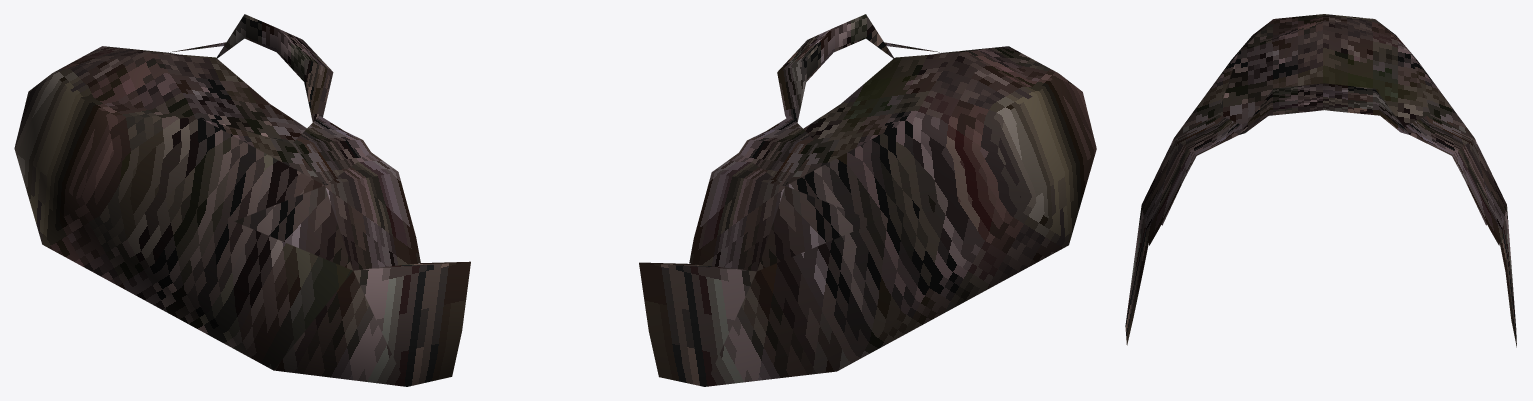
The model's file is IR_Beard02.glb.
3 views of the same model, side by side, from view 1: azimuth 30°, elevation 25°; view 2: azimuth 150°, elevation 25°; view 3: azimuth 270°, elevation 25° (orthographic). The views are drawn at different scales.
Visible parts, largest first — view 1: IR_BEARD02; view 2: IR_BEARD02; view 3: IR_BEARD02.
Boxes of the visible parts, <box> form: IR_BEARD02: <box>14,14,470,386</box>; IR_BEARD02: <box>639,14,1096,386</box>; IR_BEARD02: <box>1125,14,1516,347</box>.
Bounding box in the file's own units: 0.165 × 0.118 × 0.17.
Materials: 1 (1 with a texture image).
